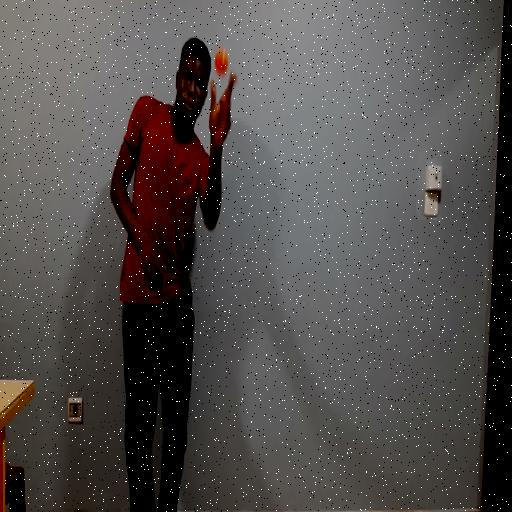plastic-ball: (209, 45, 231, 83)
